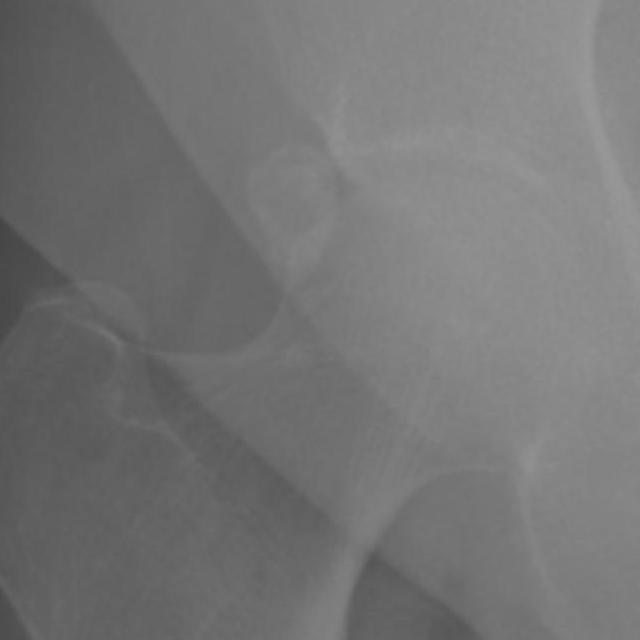Fitted_femural_head: (330, 173, 432, 330)
